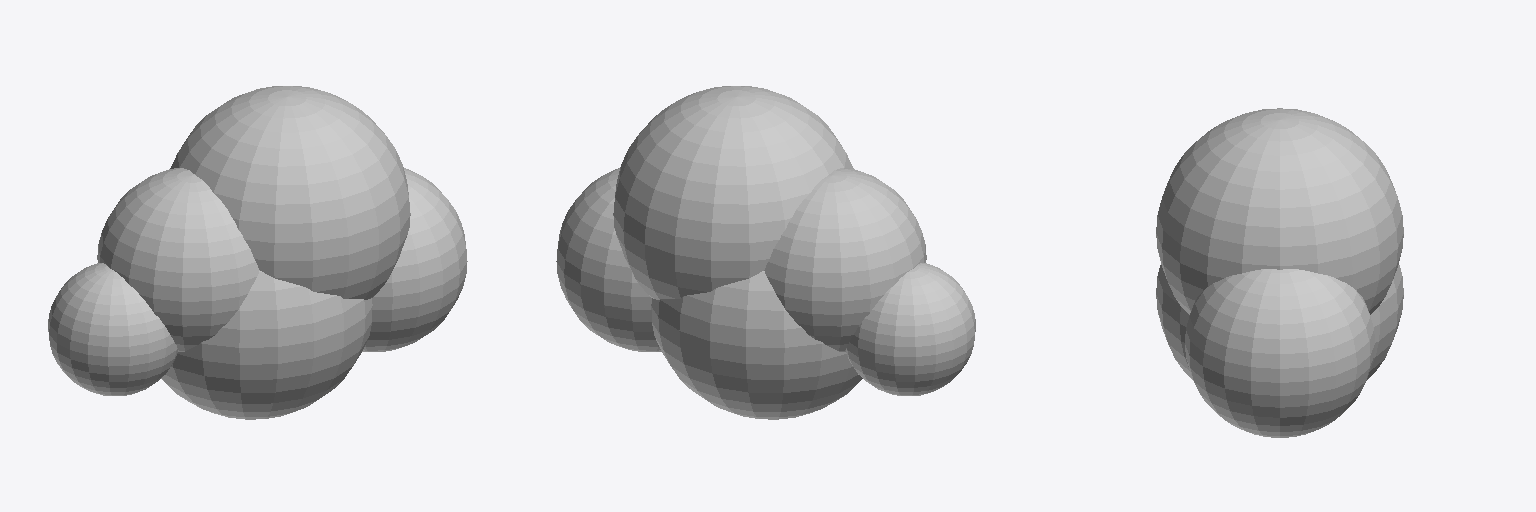
Rendered from cloud2.obj.
The picture shows the model from 3 angles: view 1: azimuth 30°, elevation 25°; view 2: azimuth 150°, elevation 25°; view 3: azimuth 270°, elevation 25°; orthographic projection.
Visible parts, largest first — view 1: cloud2 pSphere4, cloud2 pSphere3, cloud2 pSphere2, pSphere1 cloud2, cloud2 pSphere5; view 2: cloud2 pSphere4, cloud2 pSphere3, cloud2 pSphere2, pSphere1 cloud2, cloud2 pSphere5; view 3: cloud2 pSphere4, cloud2 pSphere5, cloud2 pSphere3.
Boxes of the visible parts, <box> form: cloud2 pSphere4: <box>170,86,410,299</box>; cloud2 pSphere3: <box>161,271,372,419</box>; cloud2 pSphere2: <box>97,168,259,351</box>; pSphere1 cloud2: <box>48,263,177,395</box>; cloud2 pSphere5: <box>362,168,467,351</box>; cloud2 pSphere4: <box>613,86,853,299</box>; cloud2 pSphere3: <box>651,271,862,419</box>; cloud2 pSphere2: <box>764,168,926,351</box>; pSphere1 cloud2: <box>846,263,975,395</box>; cloud2 pSphere5: <box>556,168,661,351</box>; cloud2 pSphere4: <box>1156,108,1403,314</box>; cloud2 pSphere5: <box>1185,269,1374,437</box>; cloud2 pSphere3: <box>1156,265,1403,380</box>.
Size of the model in its own units: 6.78 by 4.92 by 3.65.